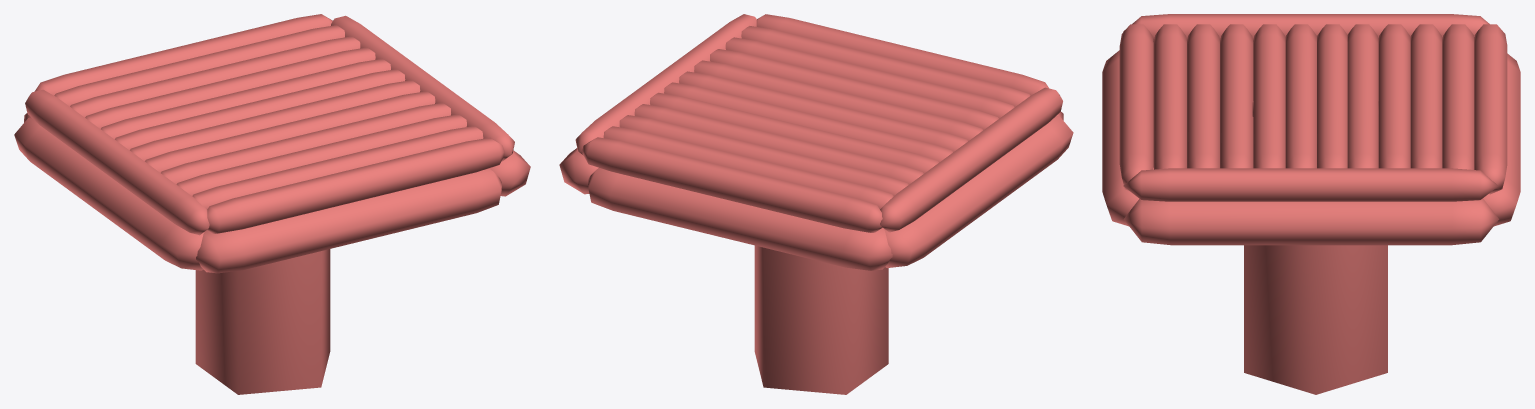
File: HinchableGrandeRojo.fbx
3 views of the same model, side by side, from view 1: azimuth 30°, elevation 25°; view 2: azimuth 150°, elevation 25°; view 3: azimuth 270°, elevation 25° (orthographic). The views are drawn at different scales.
Parts seen in each view (by area): view 1: polySurface1536; view 2: polySurface1536; view 3: polySurface1536.
Boxes of the visible parts, x1,y1,x2,y2 form: polySurface1536: [14, 14, 530, 394]; polySurface1536: [559, 14, 1073, 394]; polySurface1536: [1102, 14, 1520, 394].
Bounding box in the file's own units: 1.44 × 0.9825 × 1.39.
